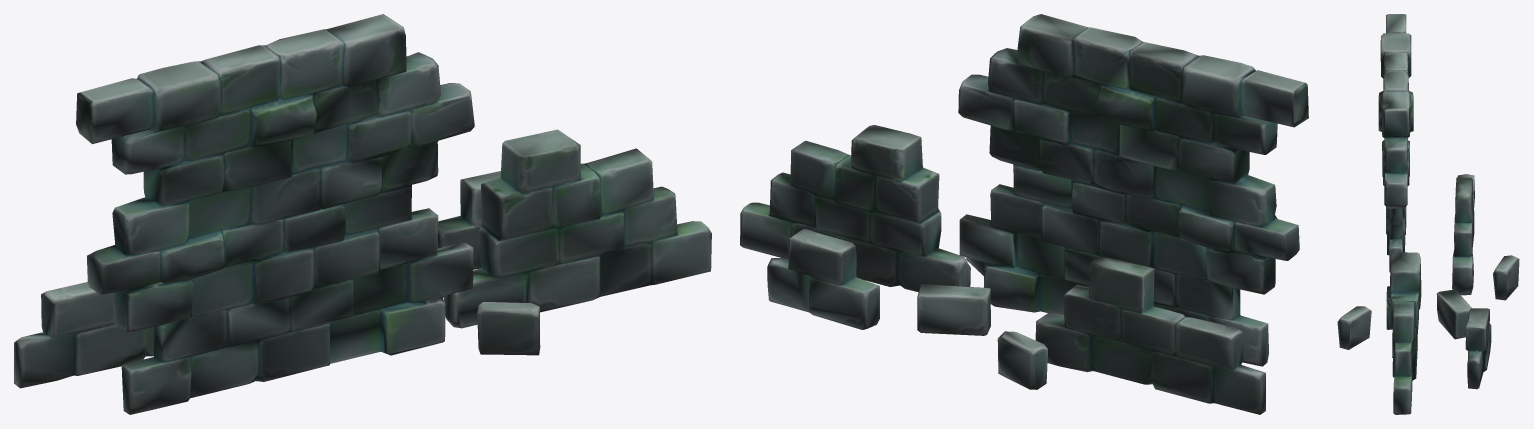
The picture shows the model from 3 angles, left to right: view 1: azimuth 30°, elevation 25°; view 2: azimuth 150°, elevation 25°; view 3: azimuth 270°, elevation 25°; orthographic projection. The views are drawn at different scales.
Parts seen in each view (by area): view 1: wall_stone, wall_stone_medium, wall_stone_low, wall_single_rock_2.001, wall_stone_triplet; view 2: wall_stone, wall_stone_medium, wall_stone_low, wall_stone_triplet, wall_single_rock, wall_single_rock_2; view 3: wall_stone, wall_stone_medium, wall_stone_low, wall_stone_triplet, wall_single_rock, wall_single_rock_2.001, wall_single_rock_2.
Part boxes in pixels (<box>): wall_stone: <box>76,14,474,414</box>; wall_stone_medium: <box>444,129,711,328</box>; wall_stone_low: <box>14,282,154,388</box>; wall_single_rock_2.001: <box>477,302,540,355</box>; wall_stone_triplet: <box>437,171,500,269</box>; wall_stone: <box>958,14,1308,366</box>; wall_stone_medium: <box>740,125,970,292</box>; wall_stone_low: <box>1035,256,1265,414</box>; wall_stone_triplet: <box>767,228,879,329</box>; wall_single_rock: <box>917,284,990,335</box>; wall_single_rock_2: <box>997,331,1047,389</box>; wall_stone: <box>1378,14,1413,329</box>; wall_stone_medium: <box>1390,252,1421,414</box>; wall_stone_low: <box>1452,174,1474,295</box>; wall_stone_triplet: <box>1465,308,1491,389</box>; wall_single_rock: <box>1436,289,1471,339</box>; wall_single_rock_2.001: <box>1337,306,1371,349</box>; wall_single_rock_2: <box>1493,255,1519,300</box>.
Size of the model in its own units: 407 by 201 by 158.
